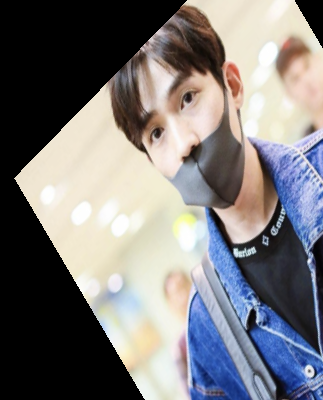mask_weared_incorrect: (95, 7, 256, 217)
